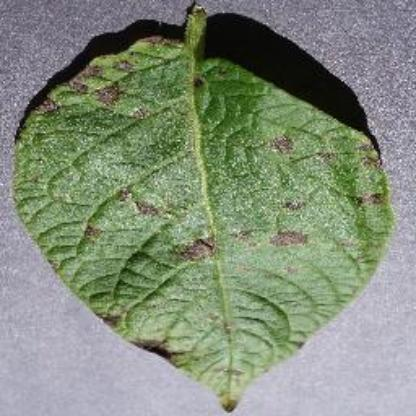Early-Blight: (14, 3, 388, 409)
